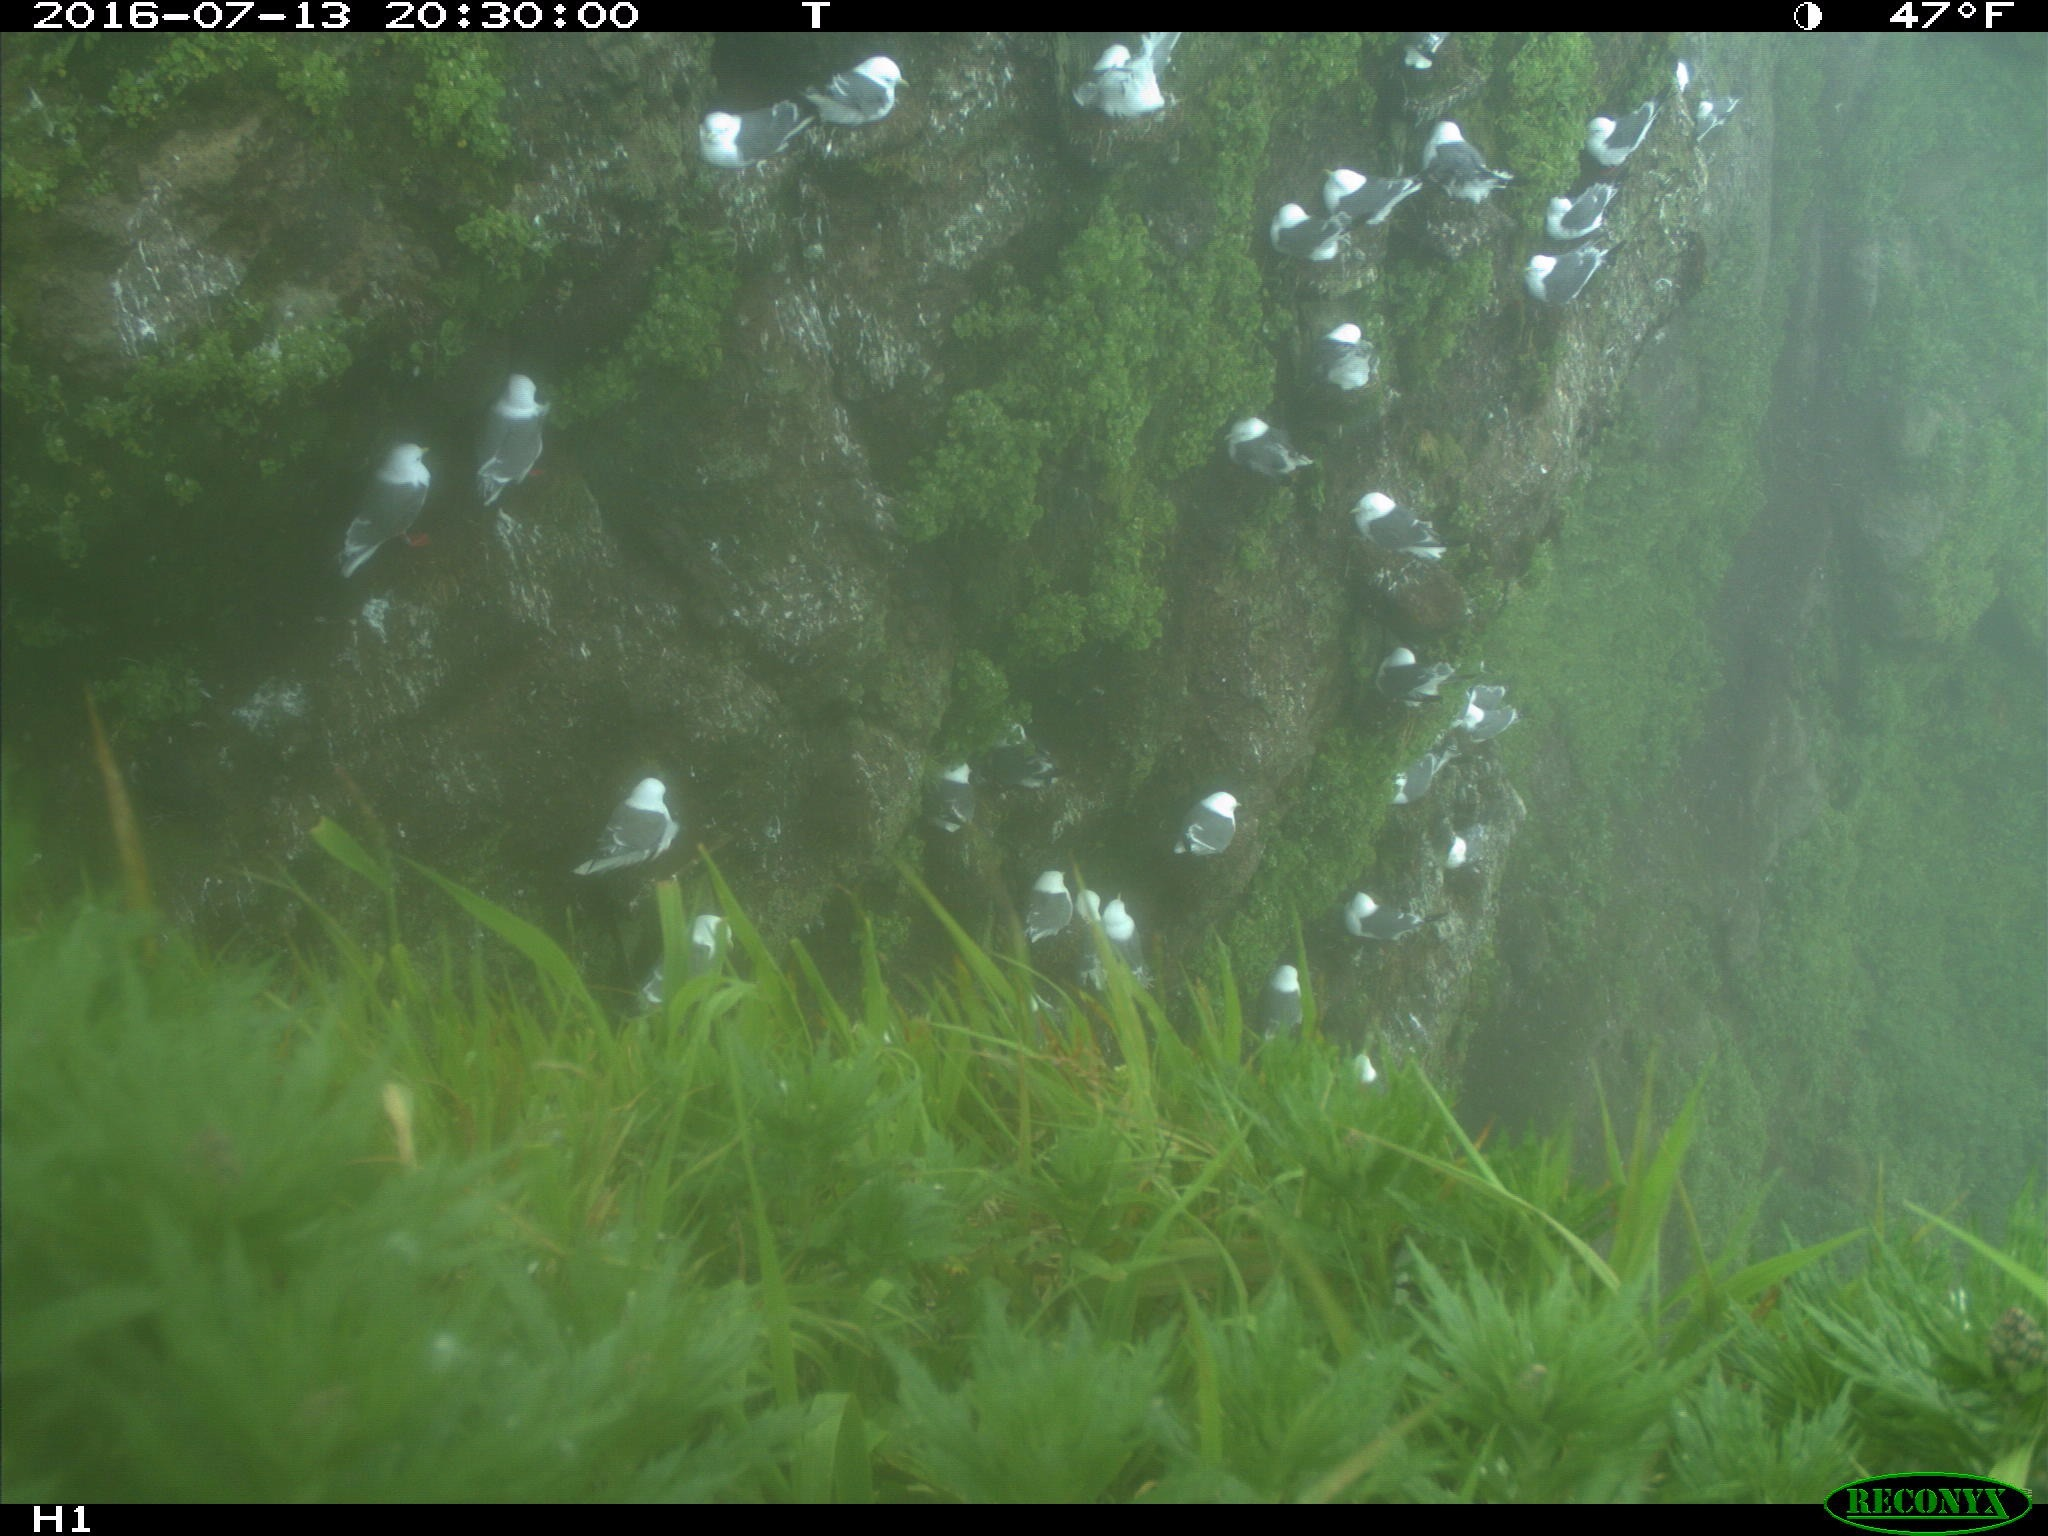Kittiwake: (1026, 32, 1264, 144), (529, 753, 724, 889), (318, 400, 455, 584), (460, 352, 572, 545), (642, 73, 840, 174), (1124, 768, 1293, 879), (1347, 465, 1479, 595), (621, 897, 756, 1021), (1408, 94, 1529, 232), (763, 48, 950, 137), (955, 697, 1121, 795), (1237, 942, 1334, 1105), (1066, 855, 1166, 1004), (885, 729, 990, 866), (1300, 153, 1471, 236), (1663, 52, 1796, 157), (1285, 303, 1417, 408), (1206, 392, 1326, 500), (1563, 98, 1725, 177), (1358, 624, 1463, 747), (1334, 862, 1458, 960), (1509, 231, 1638, 324), (1437, 671, 1534, 783), (997, 857, 1090, 971), (1232, 190, 1367, 265), (1526, 168, 1659, 240), (1366, 24, 1517, 87), (1356, 758, 1476, 828), (1405, 818, 1513, 889), (1337, 1041, 1400, 1092)
